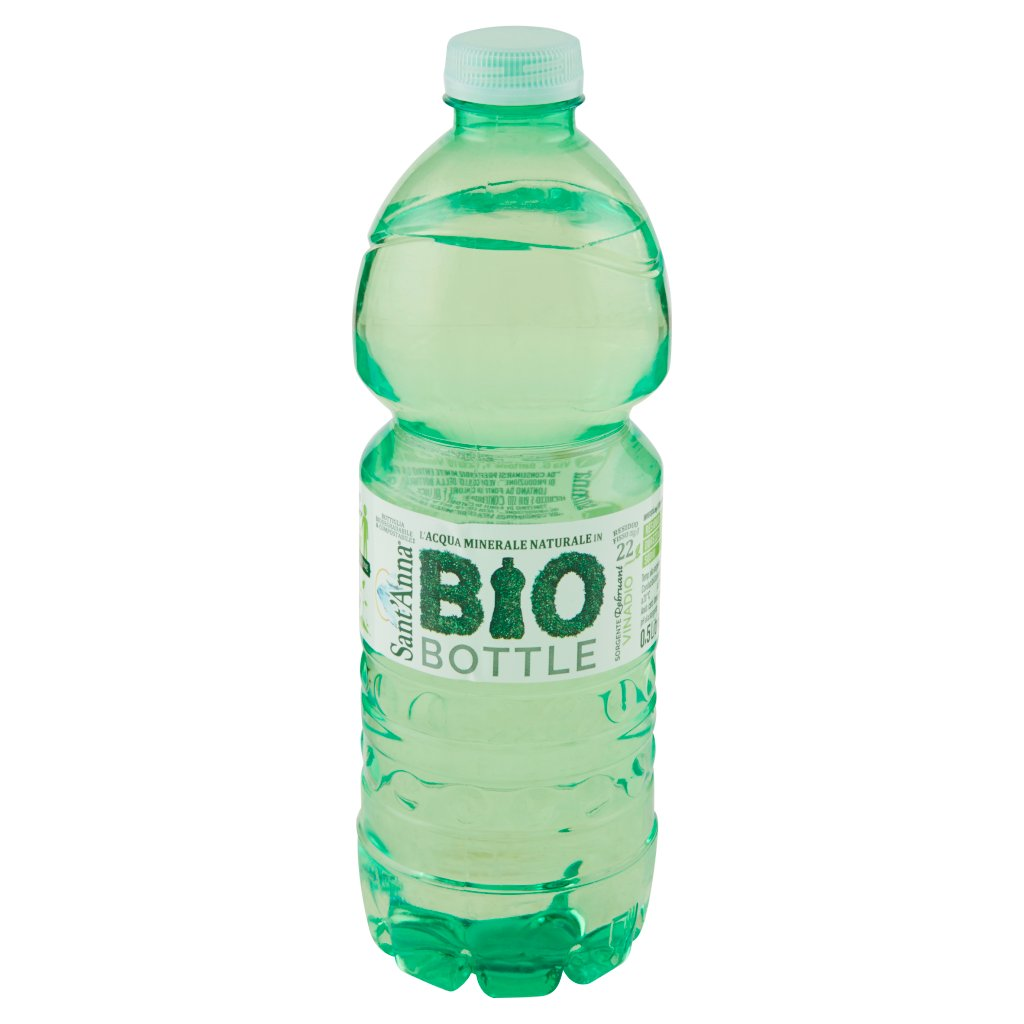PlasticBottle: (329, 31, 682, 993)
